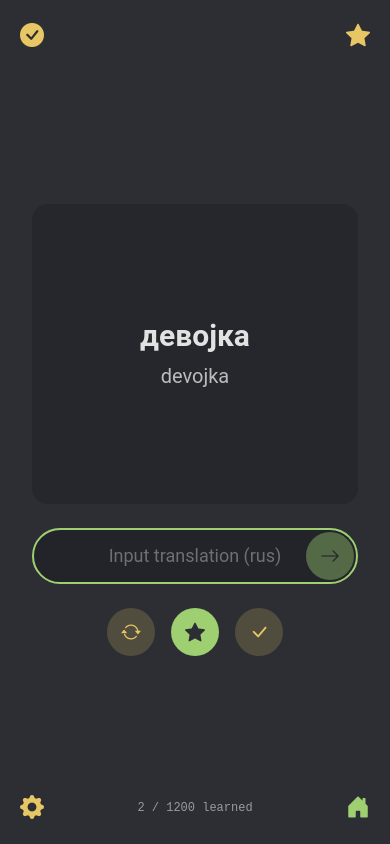
Test: App › can navigate to learned view via bottom bar
Click the button named "Learned" at (32, 36), box [8,12,56,60]
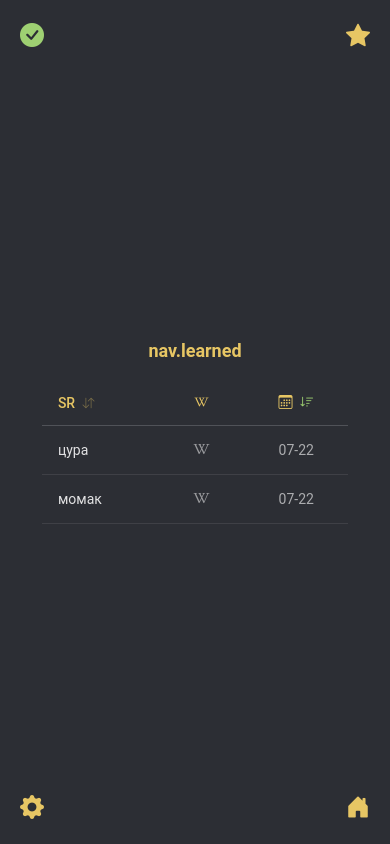
Check: the text "цура" is shown, box [58,442,88,458]
Check: the text "момак" is shown, box [58,490,102,506]
